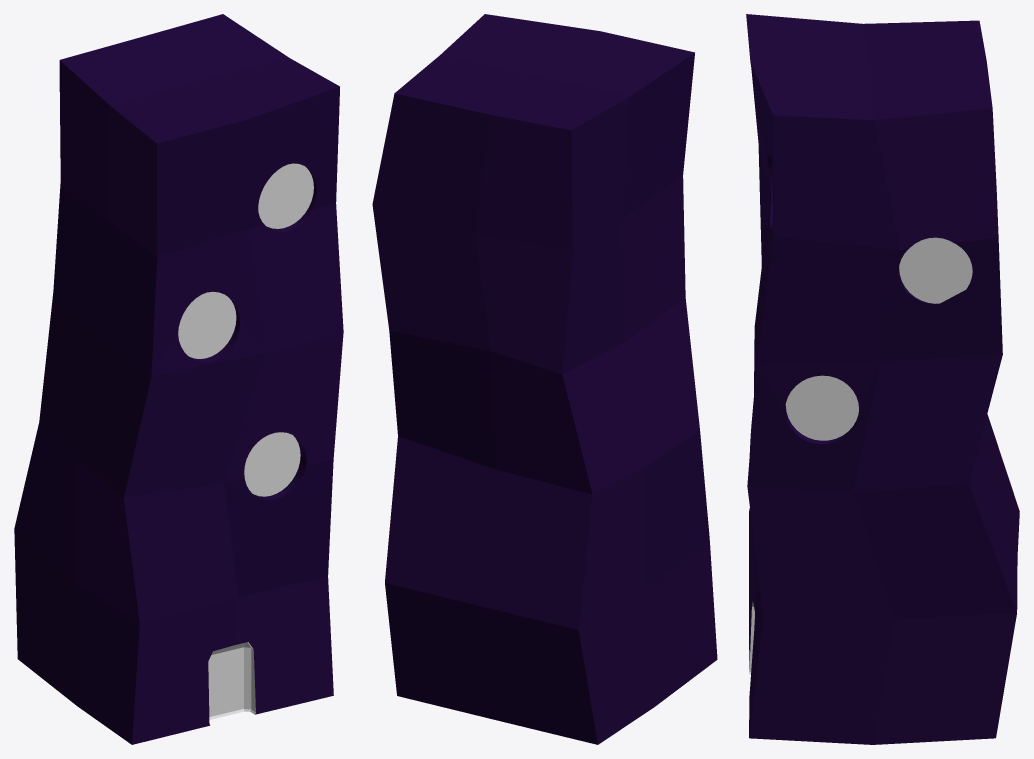
Rendered from wack_building.fbx.
The picture shows the model from 3 angles, left to right: view 1: azimuth 30°, elevation 25°; view 2: azimuth 150°, elevation 25°; view 3: azimuth 270°, elevation 25°; orthographic projection. The views are drawn at different scales.
Visible parts, largest first — view 1: Cube; view 2: Cube; view 3: Cube.
Boxes of the visible parts, box(x1,y1,x2,y2) form: Cube: box(14, 14, 343, 744); Cube: box(372, 14, 717, 744); Cube: box(746, 14, 1019, 744).
Bounding box in the file's own units: 1141 × 2915 × 1134.
